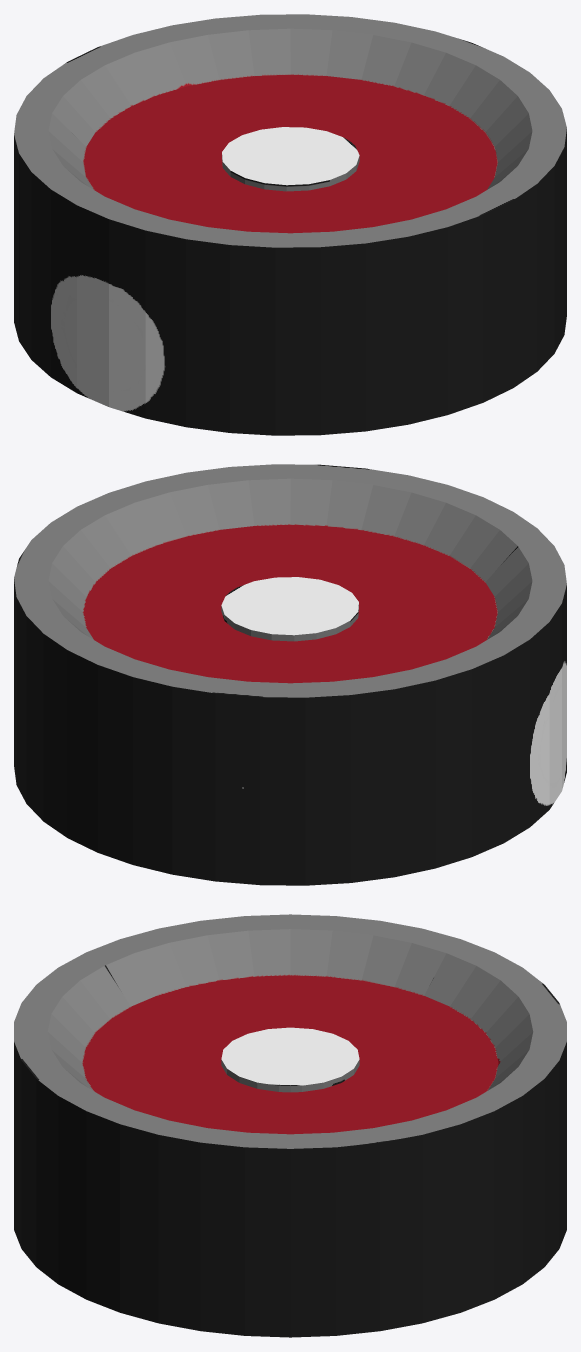
Rendered from left_rear_wheel.dae.
3 renders of one model, top to bottom at view 1: azimuth 30°, elevation 25°; view 2: azimuth 150°, elevation 25°; view 3: azimuth 270°, elevation 25°, orthographic.
Parts seen in each view (by area): view 1: left_rear_wheel; view 2: left_rear_wheel; view 3: left_rear_wheel.
Part boxes in pixels (<box>): left_rear_wheel: <box>14,14,566,435</box>; left_rear_wheel: <box>14,464,566,885</box>; left_rear_wheel: <box>14,914,566,1337</box>.
Size of the model in its own units: 0.2032 by 0.2025 by 0.0762.
1 material, 1 textured.
